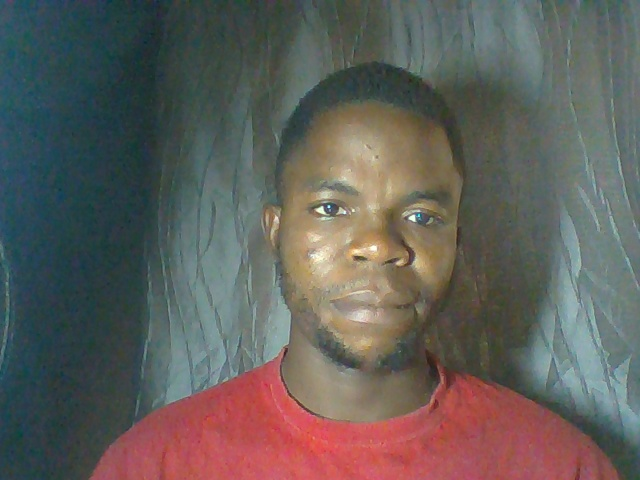MaskOff: (256, 51, 478, 402)
